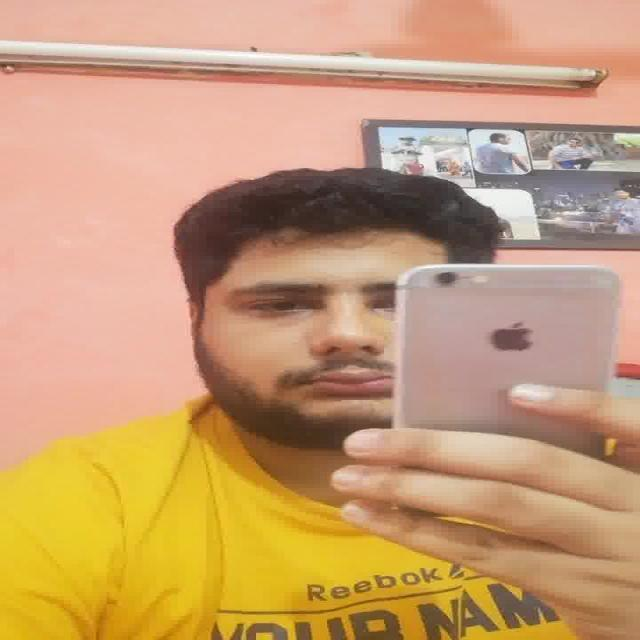Phone: (393, 264, 622, 426)
